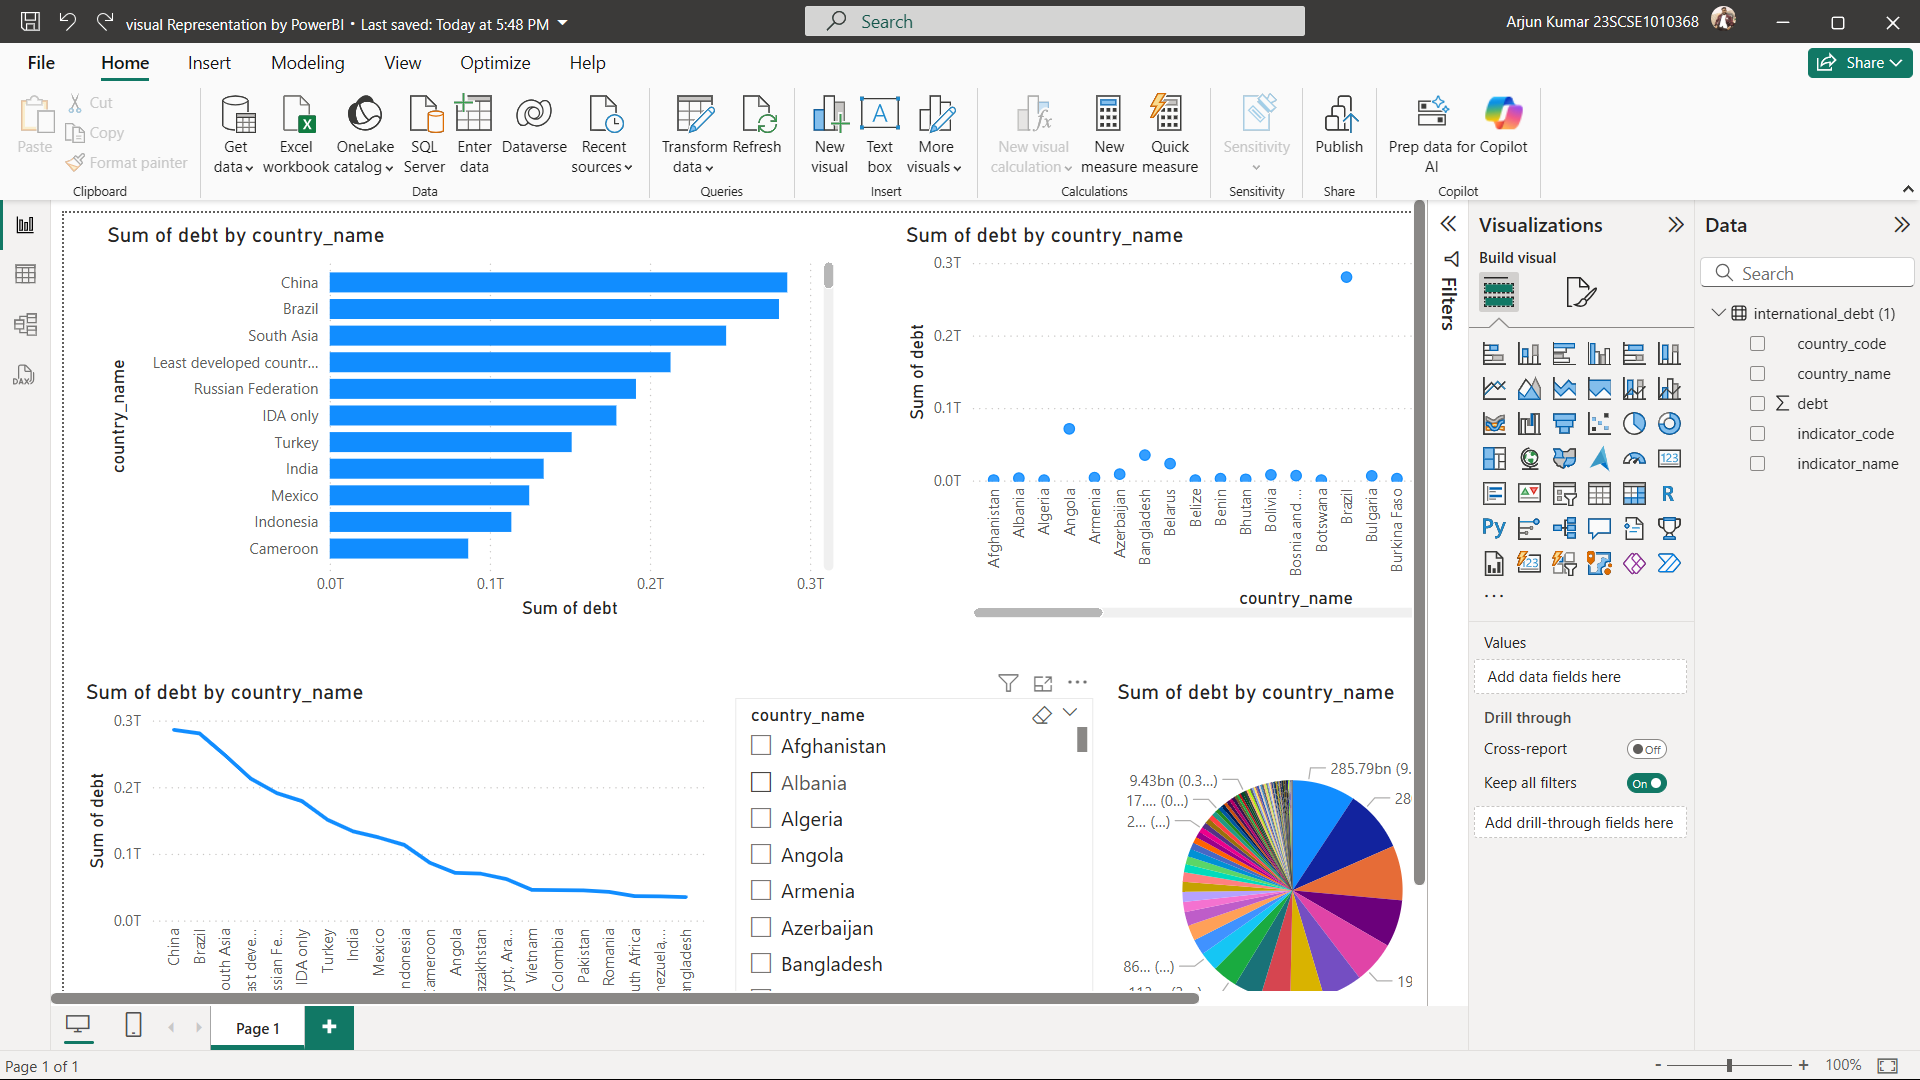

This screenshot's page, from the dashboard's own definition file:
{"tool":"powerbi","page":{"name":"Page 1","canvas":[1280,720],"ordinal":0},"visuals":[{"type":"clusteredBarChart","fields":{"Y":["Sum(international_debt (1).debt)"],"Category":["international_debt (1).country_name"]},"box":[30,6.7,646.7,341.1],"z":0},{"type":"lineChart","fields":{"Category":["international_debt (1).country_name"],"Y":["Sum(international_debt (1).debt)"]},"box":[13.3,373.3,626.7,330],"z":1},{"type":"scatterChart","fields":{"X":["international_debt (1).country_name"],"Y":["Sum(international_debt (1).debt)"]},"box":[690,6.7,558.9,351.1],"z":2},{"type":"pieChart","fields":{"Y":["Sum(international_debt (1).debt)"],"Category":["international_debt (1).country_name"]},"box":[701.1,373.3,547.8,330],"z":3}]}

Visuals, with their boxes on the page's 1280x720 design canvas (x1, y1, x2, y2). These are canvas units, not pixel positions in the 1920x1080 screenshot, which may show the page scaled, cropped or inside an application window:
clusteredBarChart - Sum(international_debt (1).debt) x international_debt (1).country_name: 30/7/677/348
lineChart - international_debt (1).country_name x Sum(international_debt (1).debt): 13/373/640/703
scatterChart - international_debt (1).country_name x Sum(international_debt (1).debt): 690/7/1249/358
pieChart - Sum(international_debt (1).debt) x international_debt (1).country_name: 701/373/1249/703
